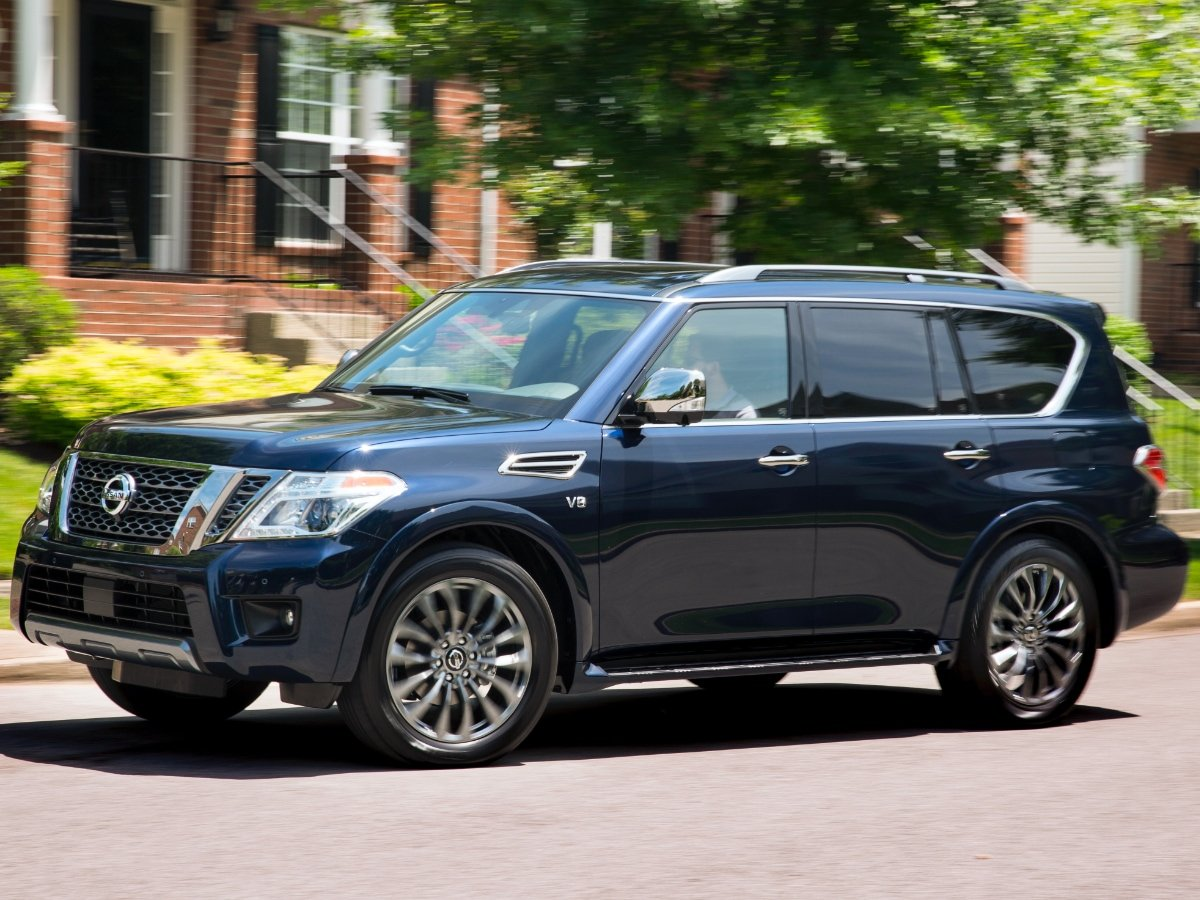car: (9, 258, 1188, 771)
